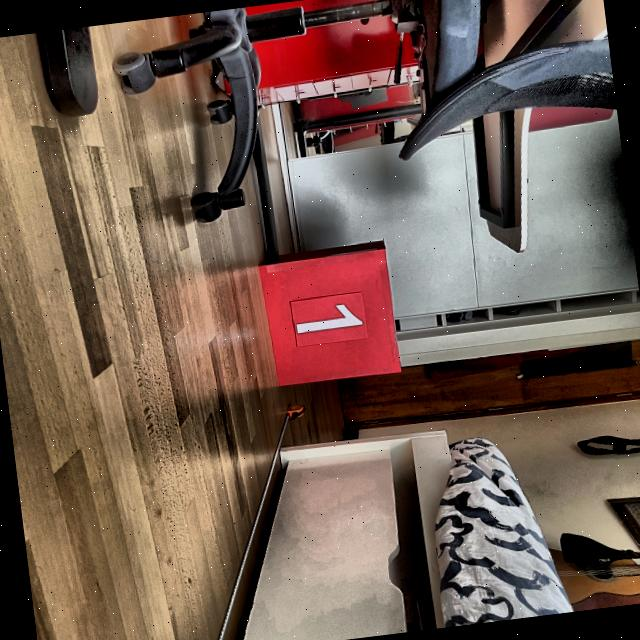one: (293, 298, 365, 336)
red box: (256, 239, 404, 389)
